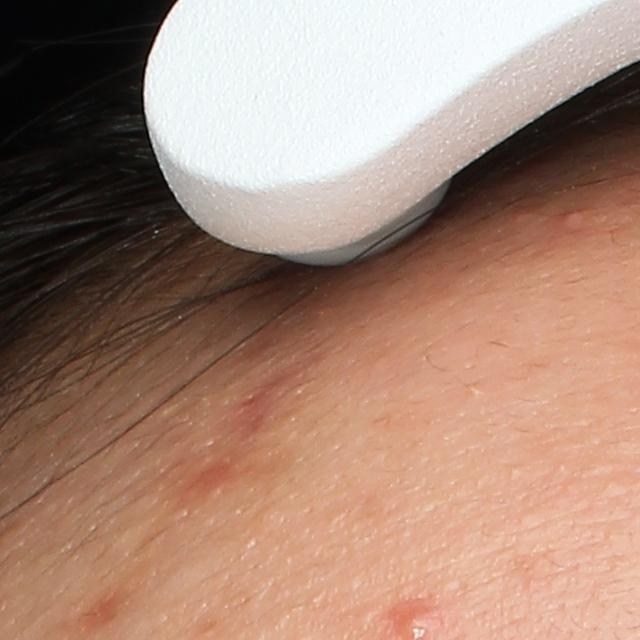papule: (562, 210, 584, 226)
